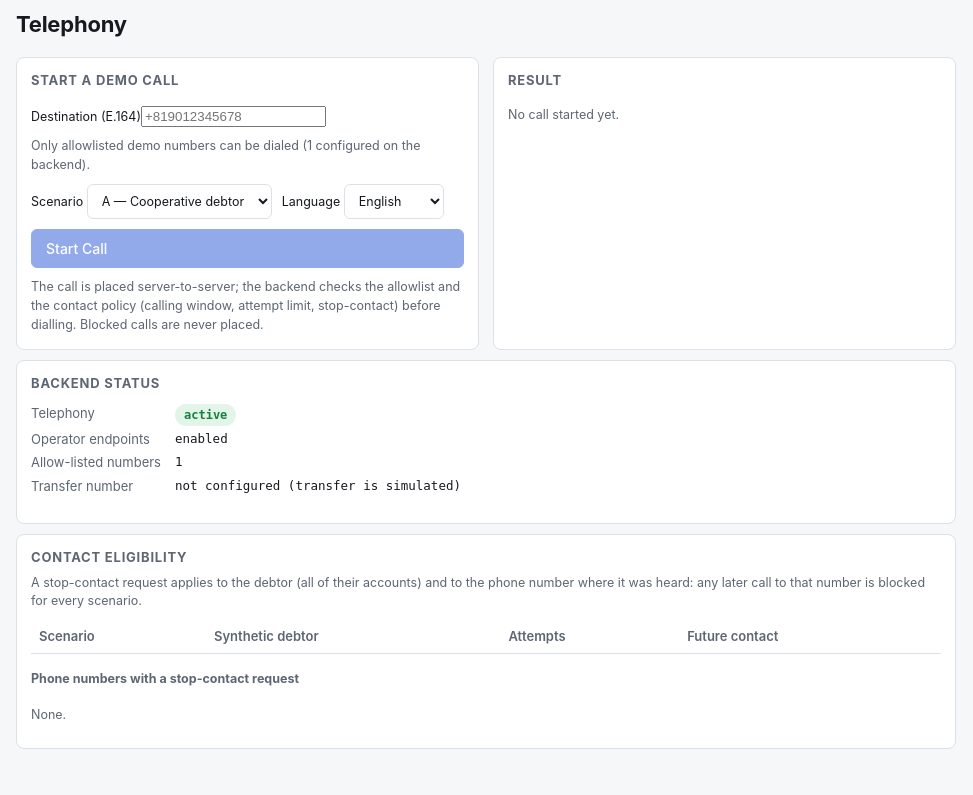
Test: Start Call › validates E.164 on the client
This screenshot has width=973, height=795.
Step 1. Type "090-1234-5678" into the field with placeholder "+819012345678" → (234, 116), box [141,106,326,127]
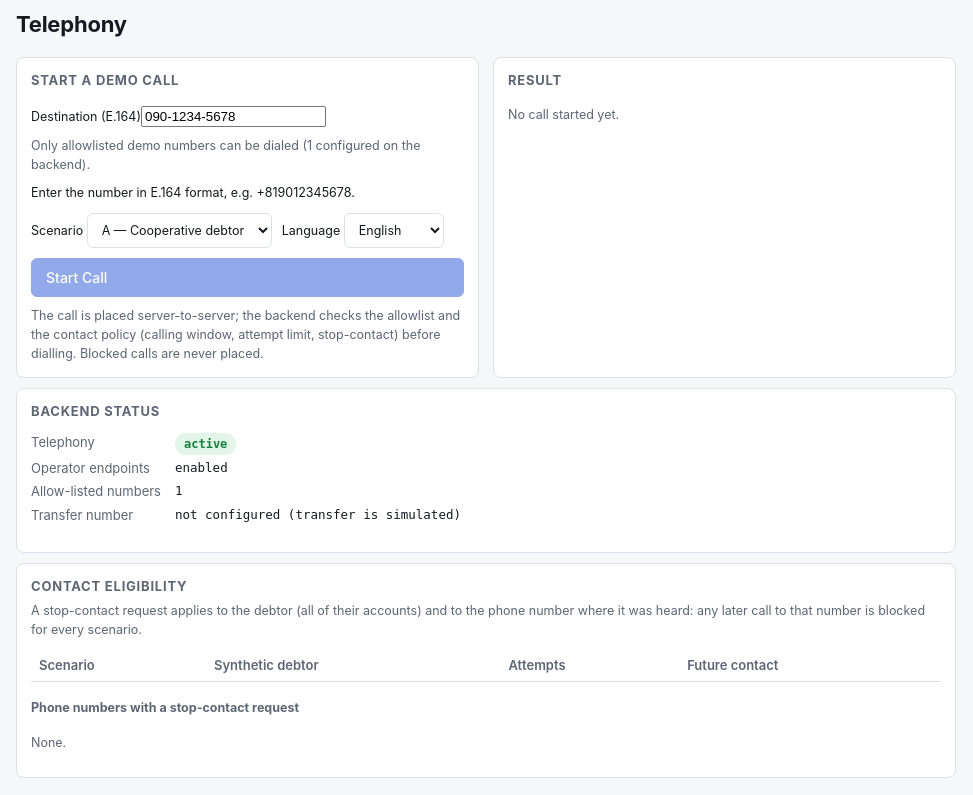
Expected: the button "Start Call" is disabled, [31,258,464,297]
Expected: the text "Enter the number in E.164 format, e.g. +819012345678." is shown, [31,185,355,200]
